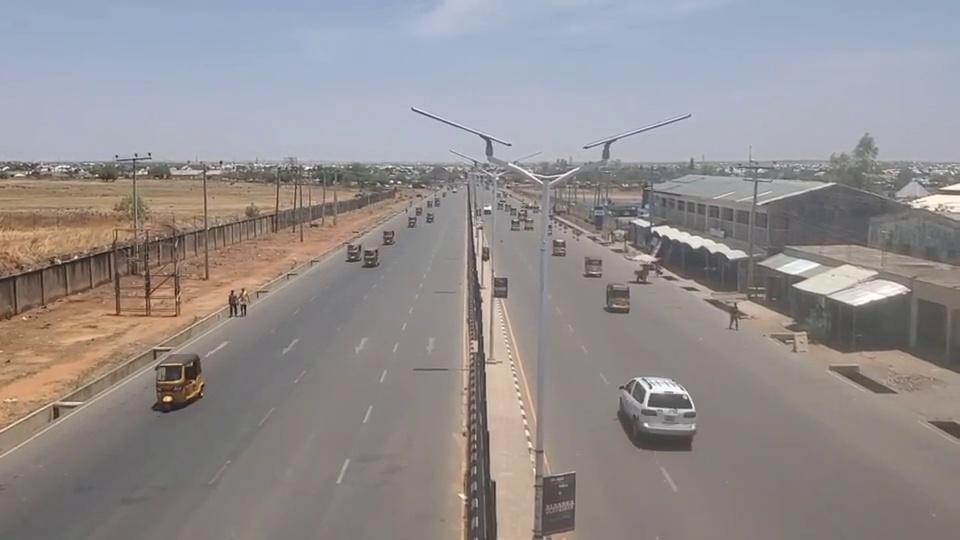car: (620, 375, 698, 442)
keke: (154, 352, 204, 411), (605, 282, 631, 313), (584, 256, 602, 277), (363, 248, 379, 267), (346, 244, 362, 261), (552, 239, 567, 257), (382, 230, 395, 245), (524, 217, 534, 230)
